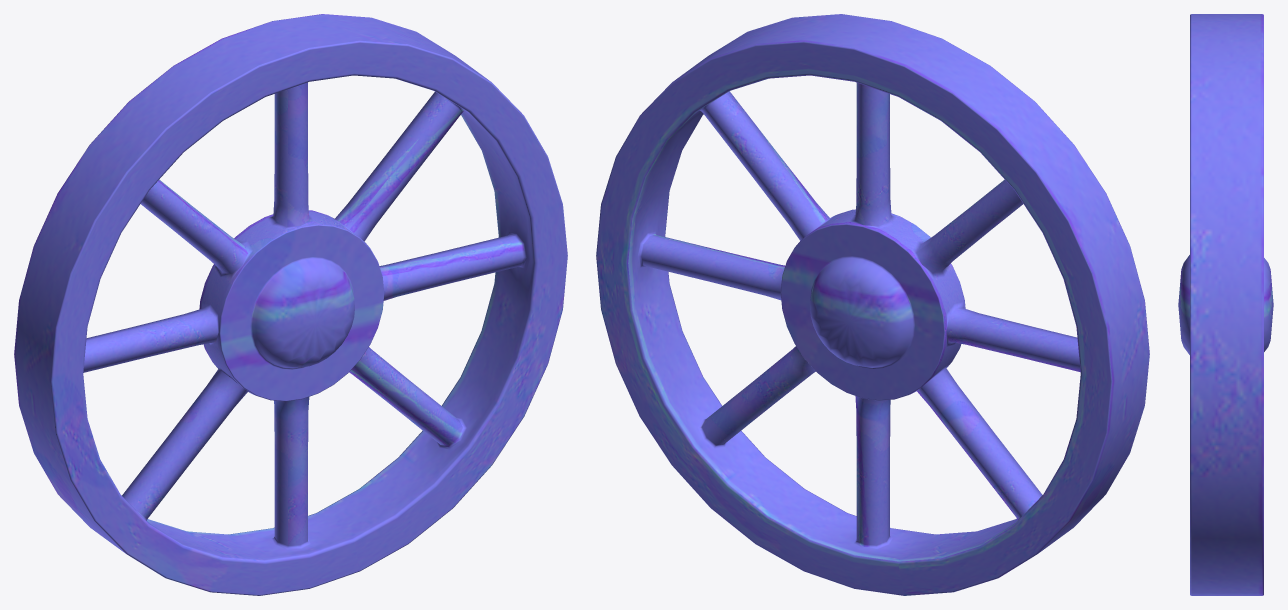
The model's file is wheel.fbx.
3 views of the same model, side by side, from view 1: azimuth 30°, elevation 25°; view 2: azimuth 150°, elevation 25°; view 3: azimuth 270°, elevation 25° (orthographic). The views are drawn at different scales.
Visible parts, largest first — view 1: wheel:polySurface449; view 2: wheel:polySurface449; view 3: wheel:polySurface449.
Part boxes in pixels (left/top/right/bottom): wheel:polySurface449: left=14, top=14, right=567, bottom=595; wheel:polySurface449: left=596, top=14, right=1149, bottom=595; wheel:polySurface449: left=1178, top=14, right=1273, bottom=595.
Size of the model in its own units: 48.82 by 48.82 by 7.99.
